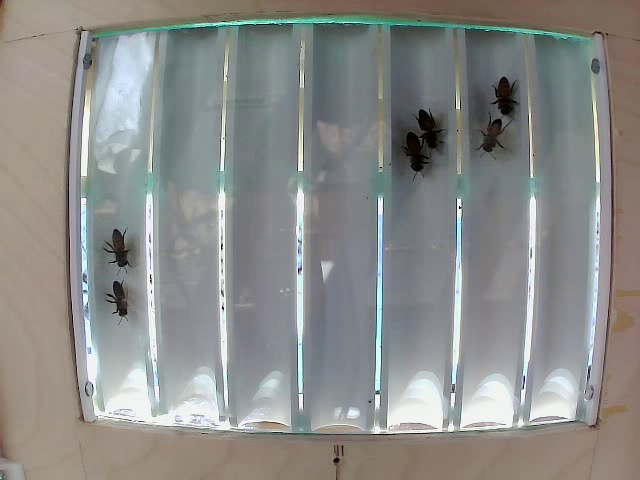bee: (109, 227, 152, 278), (413, 100, 442, 153), (399, 131, 426, 186), (106, 272, 138, 318), (479, 110, 507, 156), (498, 70, 519, 111)
